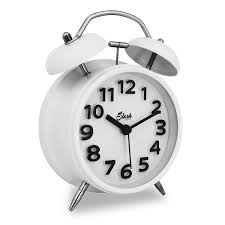alarm_clock: (38, 7, 180, 212)
